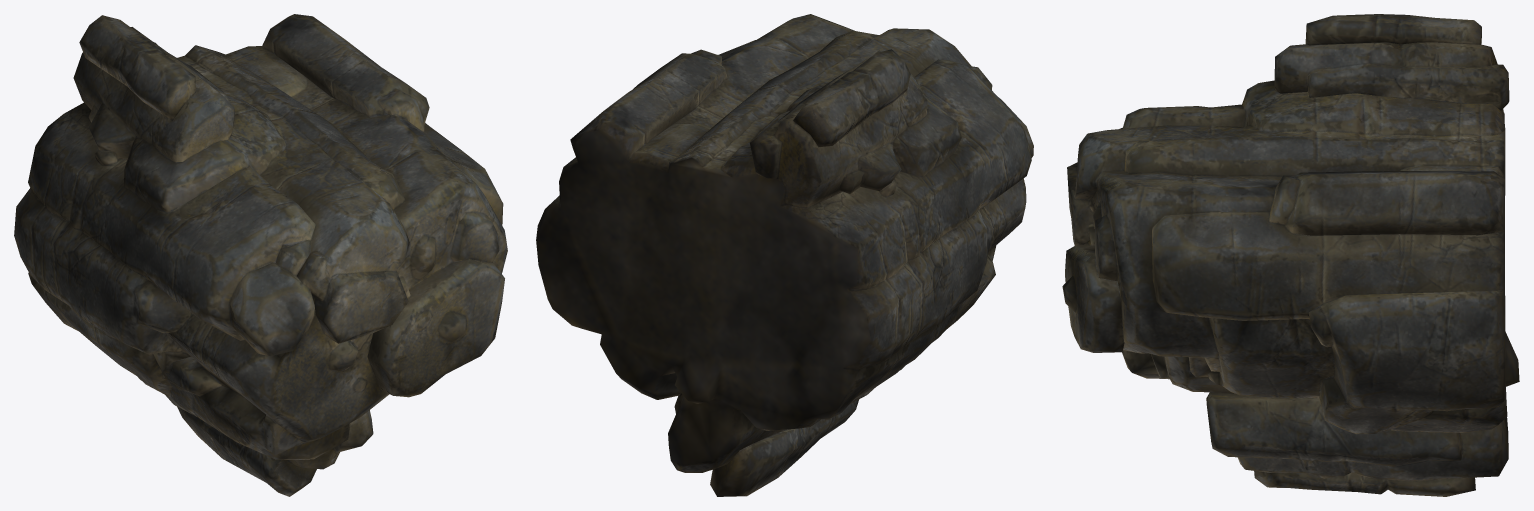
Rendered from rock_cliff_01.obj.
3 renders of one model, left to right at view 1: azimuth 30°, elevation 25°; view 2: azimuth 150°, elevation 25°; view 3: azimuth 270°, elevation 25°, orthographic. The views are drawn at different scales.
Parts seen in each view (by area): view 1: rock_cliff_01; view 2: rock_cliff_01; view 3: rock_cliff_01.
Boxes of the visible parts, box(x1,y1,x2,y2) form: rock_cliff_01: box(14, 14, 507, 496); rock_cliff_01: box(536, 14, 1033, 496); rock_cliff_01: box(1062, 14, 1519, 496).
Bounding box in the file's own units: 9 × 10.43 × 10.
Materials: 1 (1 with a texture image).
